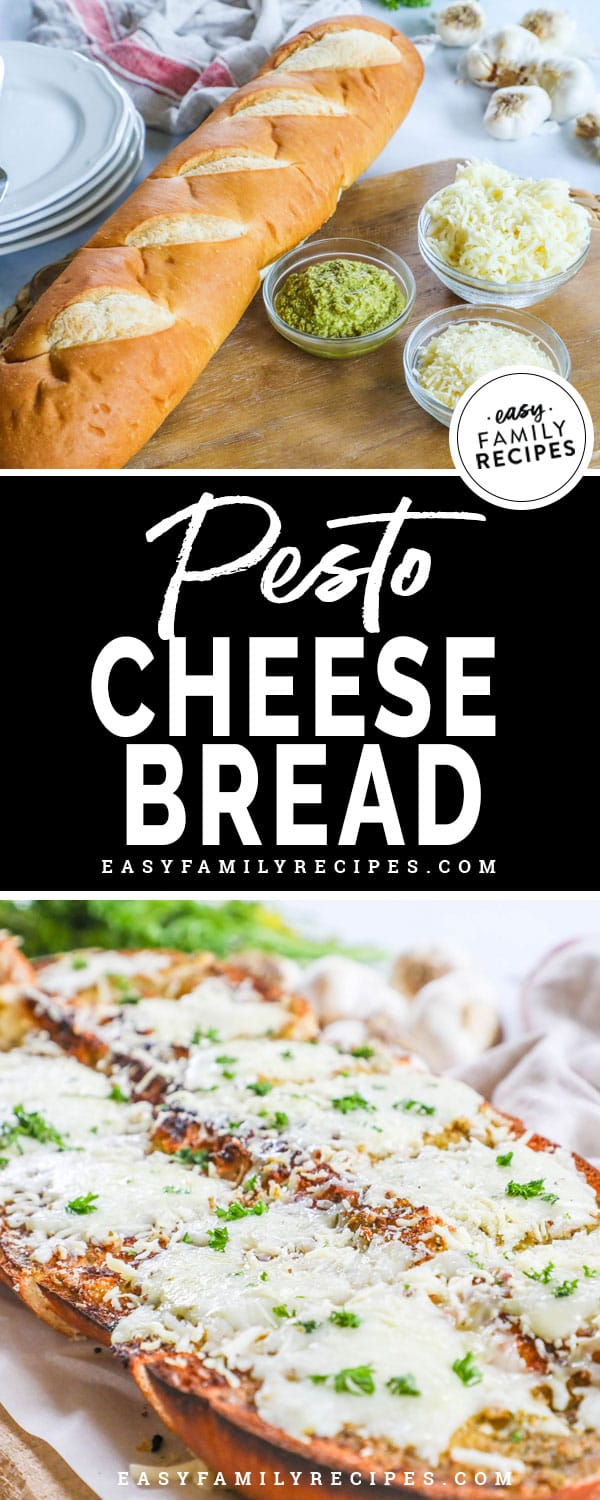cheese: (55, 1089, 409, 1323), (434, 180, 574, 283)
